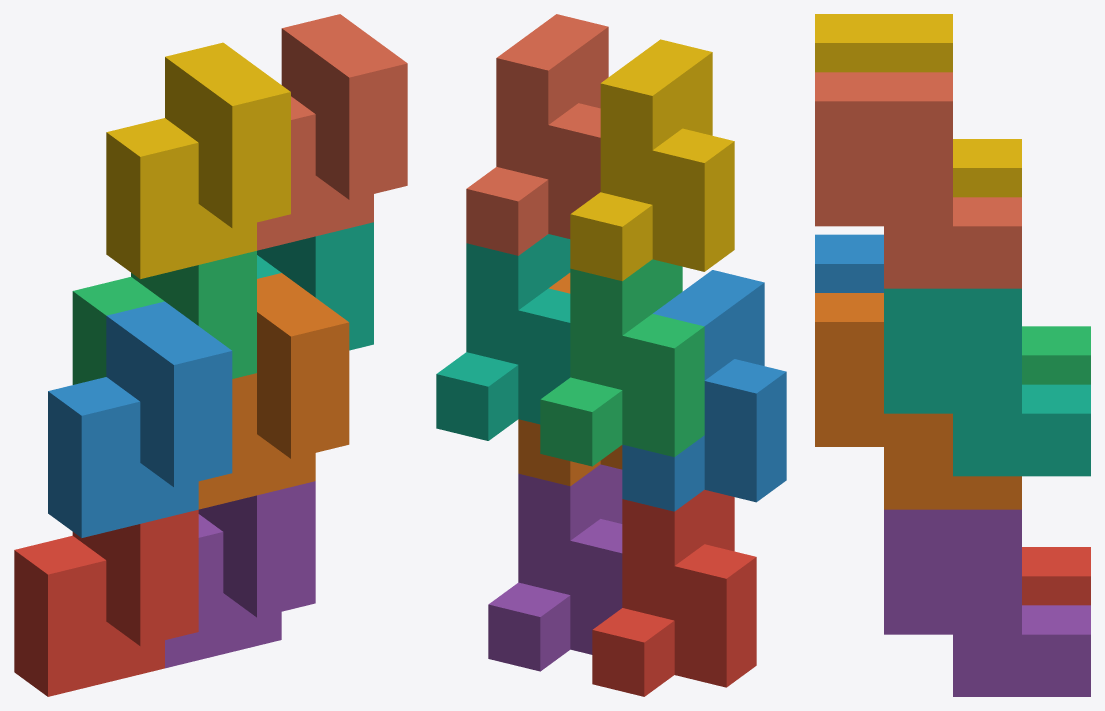
File: tiling.obj
The picture shows the model from 3 angles, left to right: view 1: azimuth 30°, elevation 25°; view 2: azimuth 150°, elevation 25°; view 3: azimuth 270°, elevation 25°; orthographic projection. The views are drawn at different scales.
Parts seen in each view (by area): view 1: copy_1_domain_2, copy_1_domain_4, copy_1_domain_1, copy_1_domain_8, copy_1_domain_6, copy_1_domain_5, copy_1_domain_3, copy_1_domain_7; view 2: copy_1_domain_4, copy_1_domain_1, copy_1_domain_3, copy_1_domain_8, copy_1_domain_2, copy_1_domain_5, copy_1_domain_7, copy_1_domain_6; view 3: copy_1_domain_8, copy_1_domain_7, copy_1_domain_5, copy_1_domain_6, copy_1_domain_4, copy_1_domain_1, copy_1_domain_2, copy_1_domain_3.
Part boxes in pixels (box(x1,y1,x2,y2)): copy_1_domain_2: box(48, 301, 232, 537); copy_1_domain_4: box(106, 42, 290, 279); copy_1_domain_1: box(14, 509, 198, 696); copy_1_domain_8: box(257, 14, 407, 250); copy_1_domain_6: box(198, 273, 349, 509); copy_1_domain_5: box(165, 481, 315, 668); copy_1_domain_3: box(72, 251, 256, 384); copy_1_domain_7: box(257, 222, 373, 350); copy_1_domain_4: box(570, 39, 734, 281); copy_1_domain_1: box(592, 489, 756, 696); copy_1_domain_3: box(540, 259, 704, 466); copy_1_domain_8: box(466, 14, 608, 255); copy_1_domain_2: box(622, 270, 786, 511); copy_1_domain_5: box(488, 464, 622, 671); copy_1_domain_7: box(436, 234, 570, 440); copy_1_domain_6: box(518, 273, 622, 486); copy_1_domain_8: box(815, 72, 1021, 288); copy_1_domain_7: box(884, 288, 1090, 476); copy_1_domain_5: box(884, 509, 1090, 696); copy_1_domain_6: box(815, 293, 1021, 509); copy_1_domain_4: box(815, 14, 1021, 197); copy_1_domain_1: box(1022, 547, 1090, 605); copy_1_domain_2: box(815, 234, 883, 292); copy_1_domain_3: box(1022, 326, 1090, 384).
Bounding box in the file's own units: 5 × 10 × 4.
